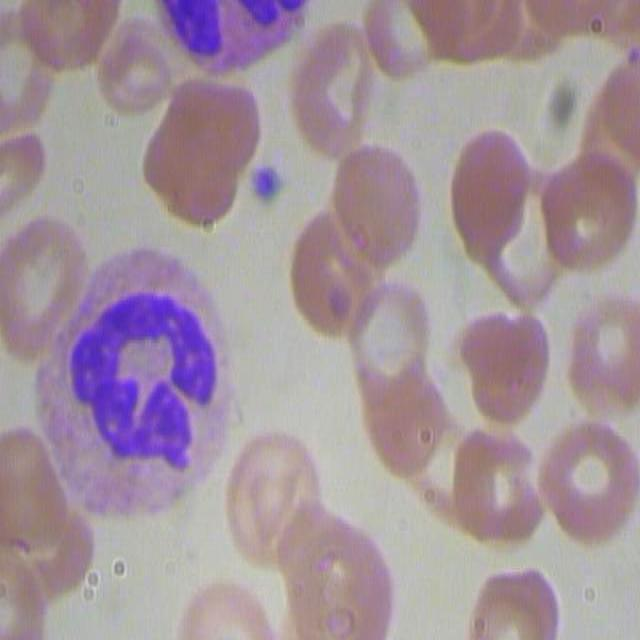RBC: (400, 8, 636, 94), (144, 75, 251, 225), (0, 424, 89, 604), (279, 512, 400, 638), (449, 299, 550, 443), (288, 6, 381, 158), (534, 417, 637, 546), (442, 425, 548, 549), (222, 428, 320, 560), (285, 210, 381, 342), (325, 139, 428, 262), (1, 212, 88, 352), (534, 156, 632, 275), (348, 276, 435, 394), (565, 290, 640, 418), (91, 12, 177, 122), (584, 42, 640, 196), (12, 0, 120, 79), (466, 560, 570, 640), (174, 580, 289, 640), (0, 3, 50, 135)
WBC: (50, 243, 238, 533), (154, 0, 328, 86)
platelets: (250, 159, 287, 207)
